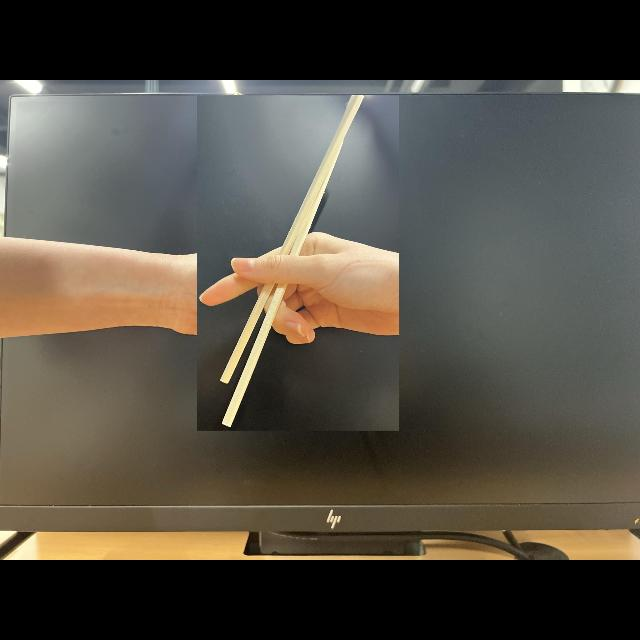stick: (197, 96, 399, 430)
